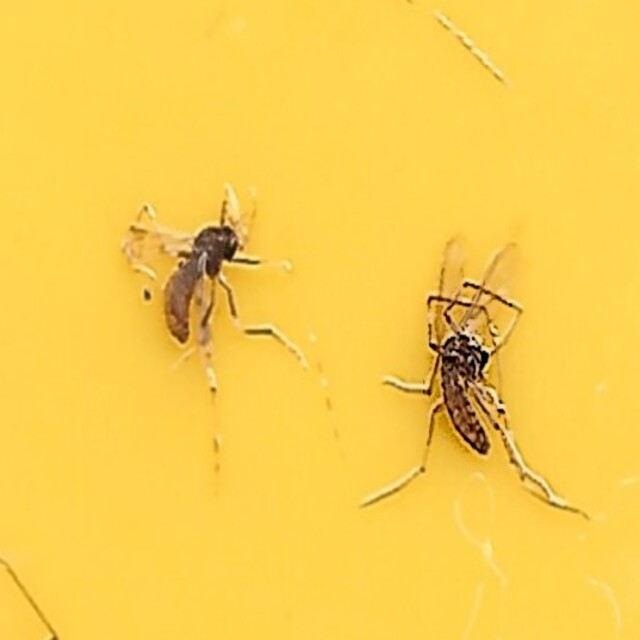Nematocera: (119, 176, 272, 407), (399, 231, 521, 464)
